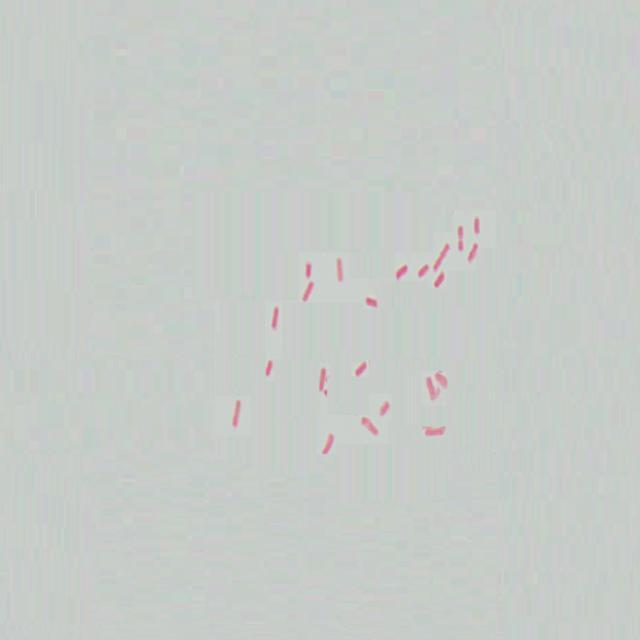E-coli: (228, 396, 244, 431), (433, 244, 452, 272), (360, 416, 381, 441), (422, 424, 447, 440), (321, 429, 335, 457), (262, 356, 276, 383), (333, 255, 344, 288), (301, 259, 317, 281), (299, 283, 314, 305), (364, 292, 380, 312), (435, 370, 452, 388), (353, 360, 368, 380), (317, 366, 328, 393), (472, 212, 484, 236), (394, 264, 411, 280), (269, 305, 280, 329), (433, 272, 447, 290), (467, 243, 478, 263), (424, 377, 434, 399), (456, 220, 466, 241), (416, 264, 430, 278), (380, 401, 390, 418), (433, 387, 443, 400), (457, 241, 465, 253)
